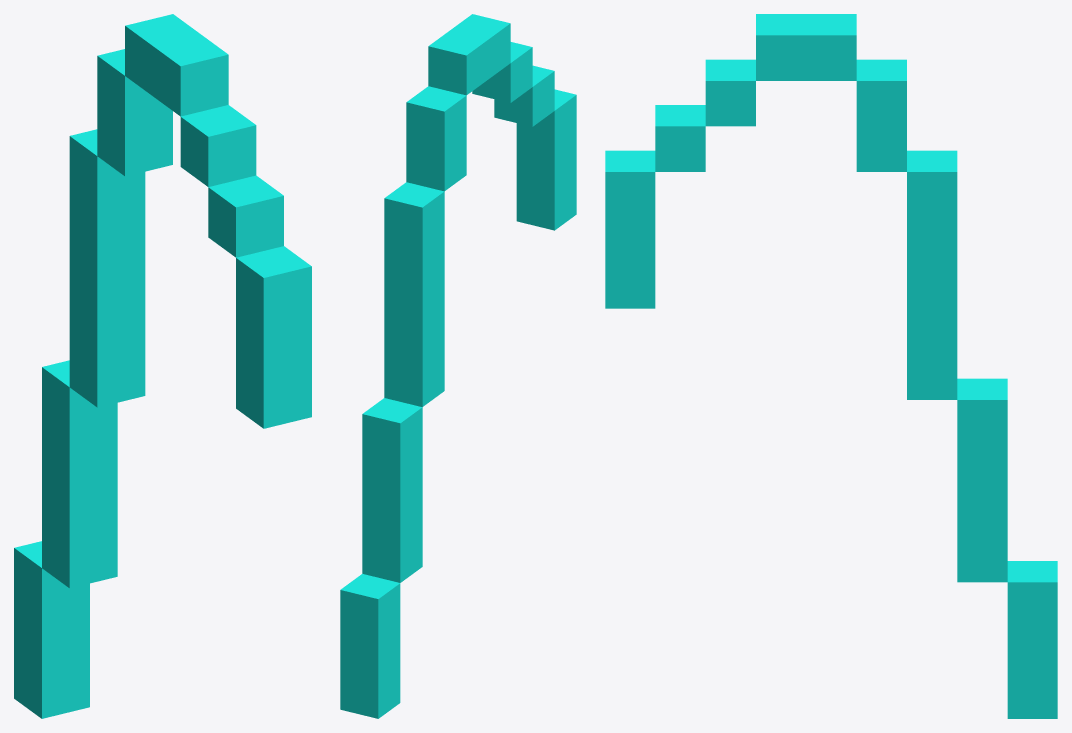
Rendered from SkyEnemyArm.obj.
3 views of the same model, side by side, from view 1: azimuth 30°, elevation 25°; view 2: azimuth 150°, elevation 25°; view 3: azimuth 270°, elevation 25° (orthographic). The views are drawn at different scales.
Bounding box in the file's own units: 1 × 15 × 9.
1 material, 1 textured.
